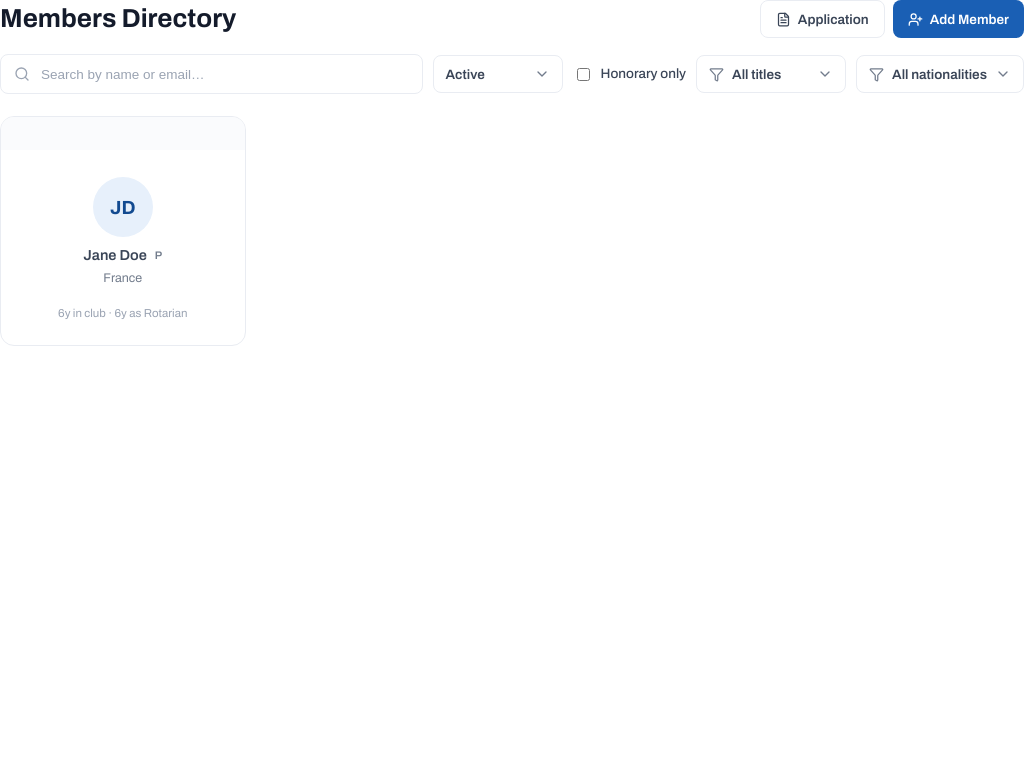
Test: MembersList › as admin › shows the member card with title badge and an Add Member button
Expected: the text "Jane Doe" is shown, [83, 244, 147, 267]
Expected: the text "P" is shown, [155, 249, 162, 261]
Click the button "Add Member": (958,19) [893, 0, 1023, 38]
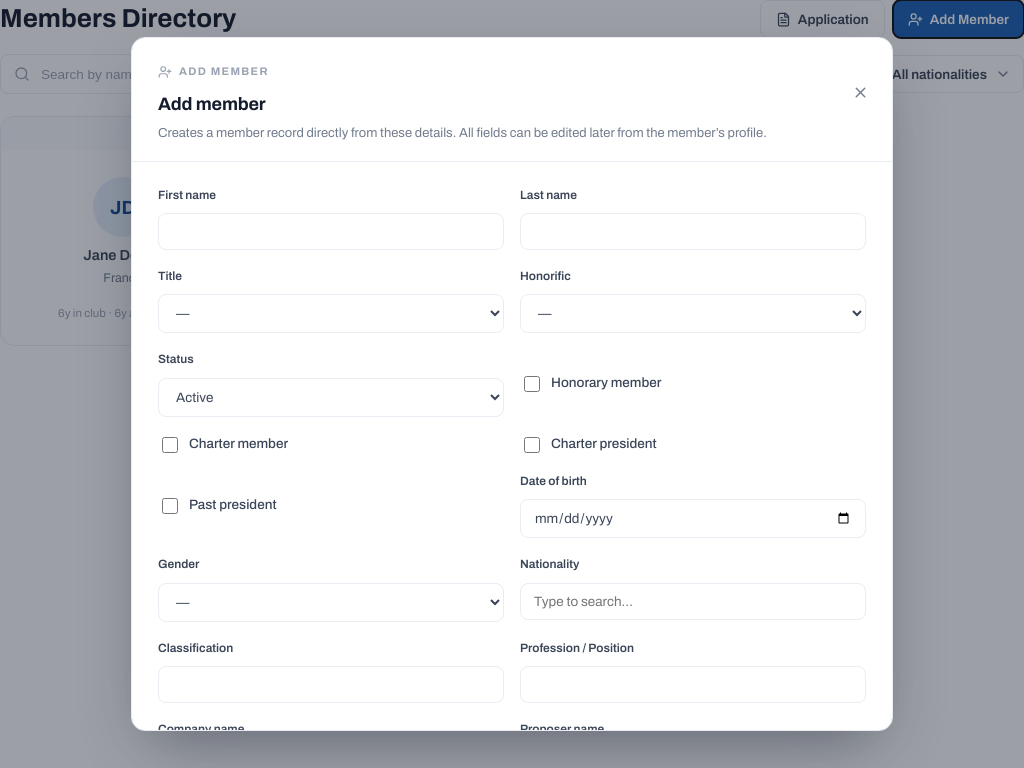
Expected: the heading "Add member" is shown, [158, 94, 266, 114]
